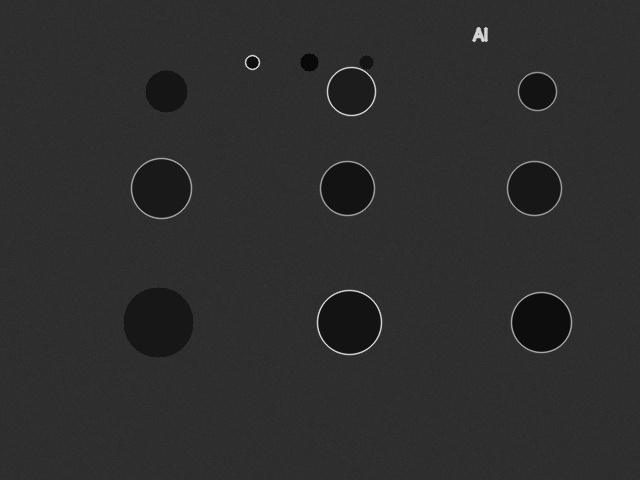hole: (123, 287, 193, 357), (317, 290, 381, 354), (131, 158, 191, 218), (511, 292, 571, 352), (320, 161, 374, 215), (507, 161, 561, 215), (327, 67, 375, 115), (145, 70, 187, 112), (518, 72, 556, 110), (300, 53, 318, 71), (245, 55, 259, 69), (359, 55, 373, 69)
